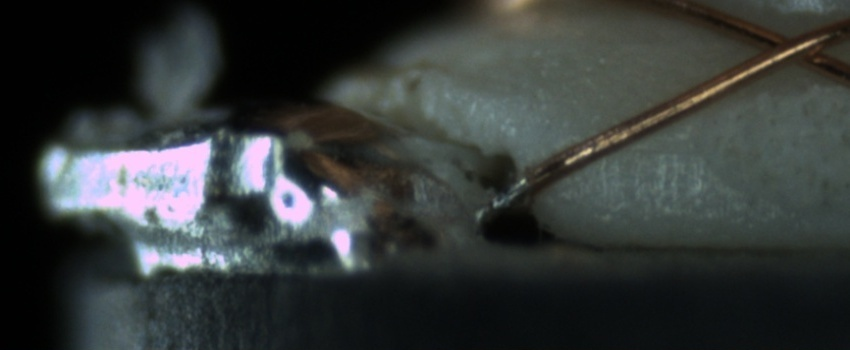CL: (737, 14, 844, 76)
DL: (586, 126, 699, 175)
TS: (481, 177, 529, 215)
